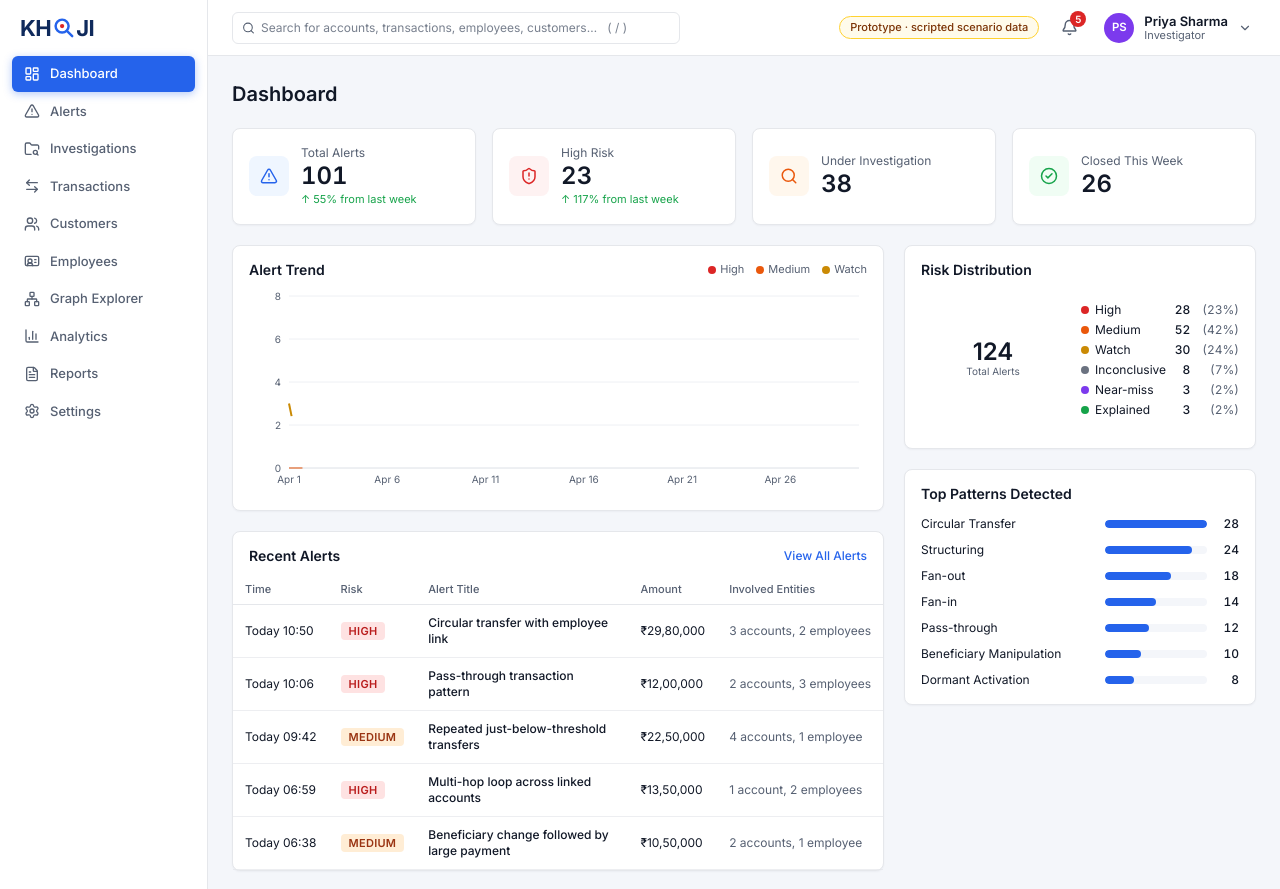
Test case: global search UI › shows "No matches" for gibberish
Type "zzz" into the dropdown named "Global search". click: (456, 28)
box: [232,12,680,44]
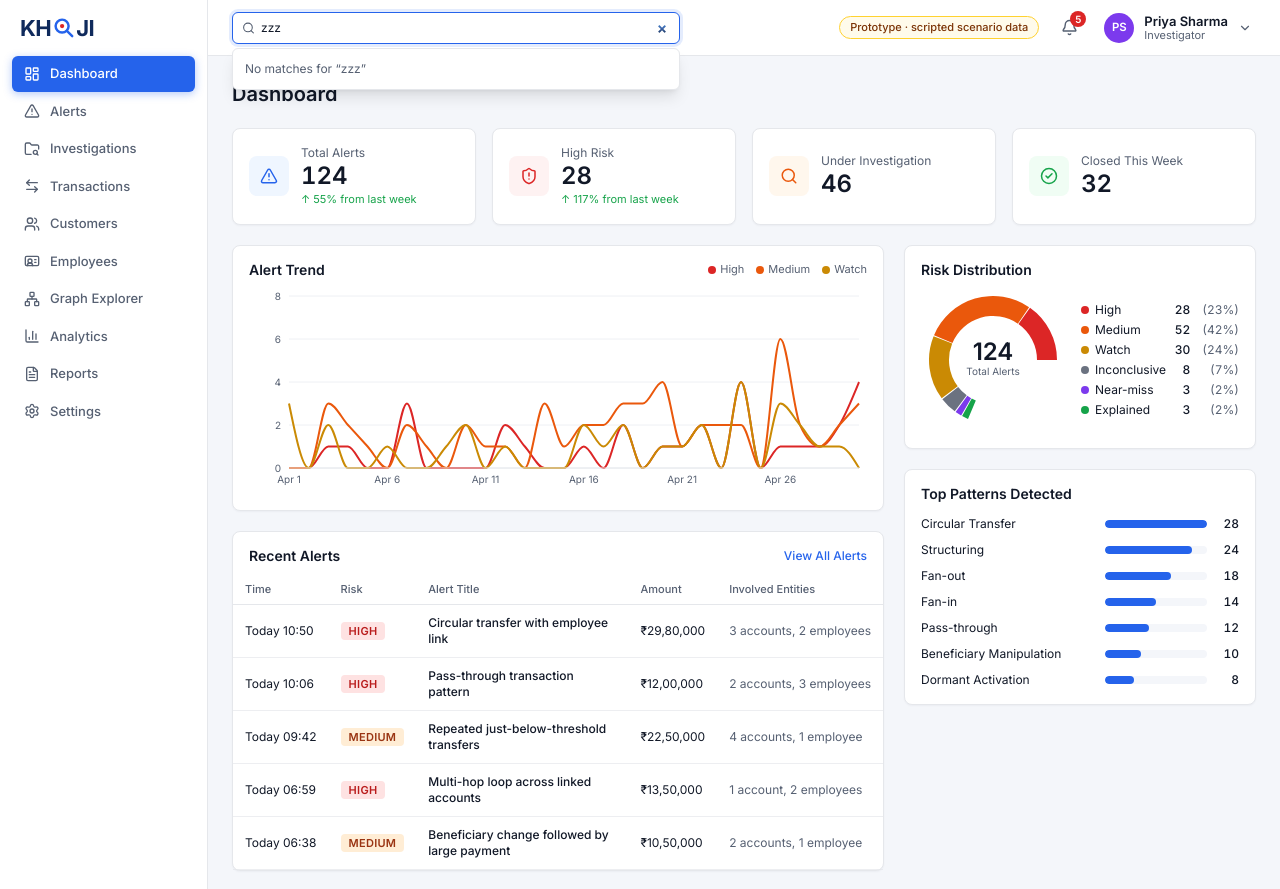
Now the list item "No matches for “zzz”" is shown, box [245,60,366,76]
